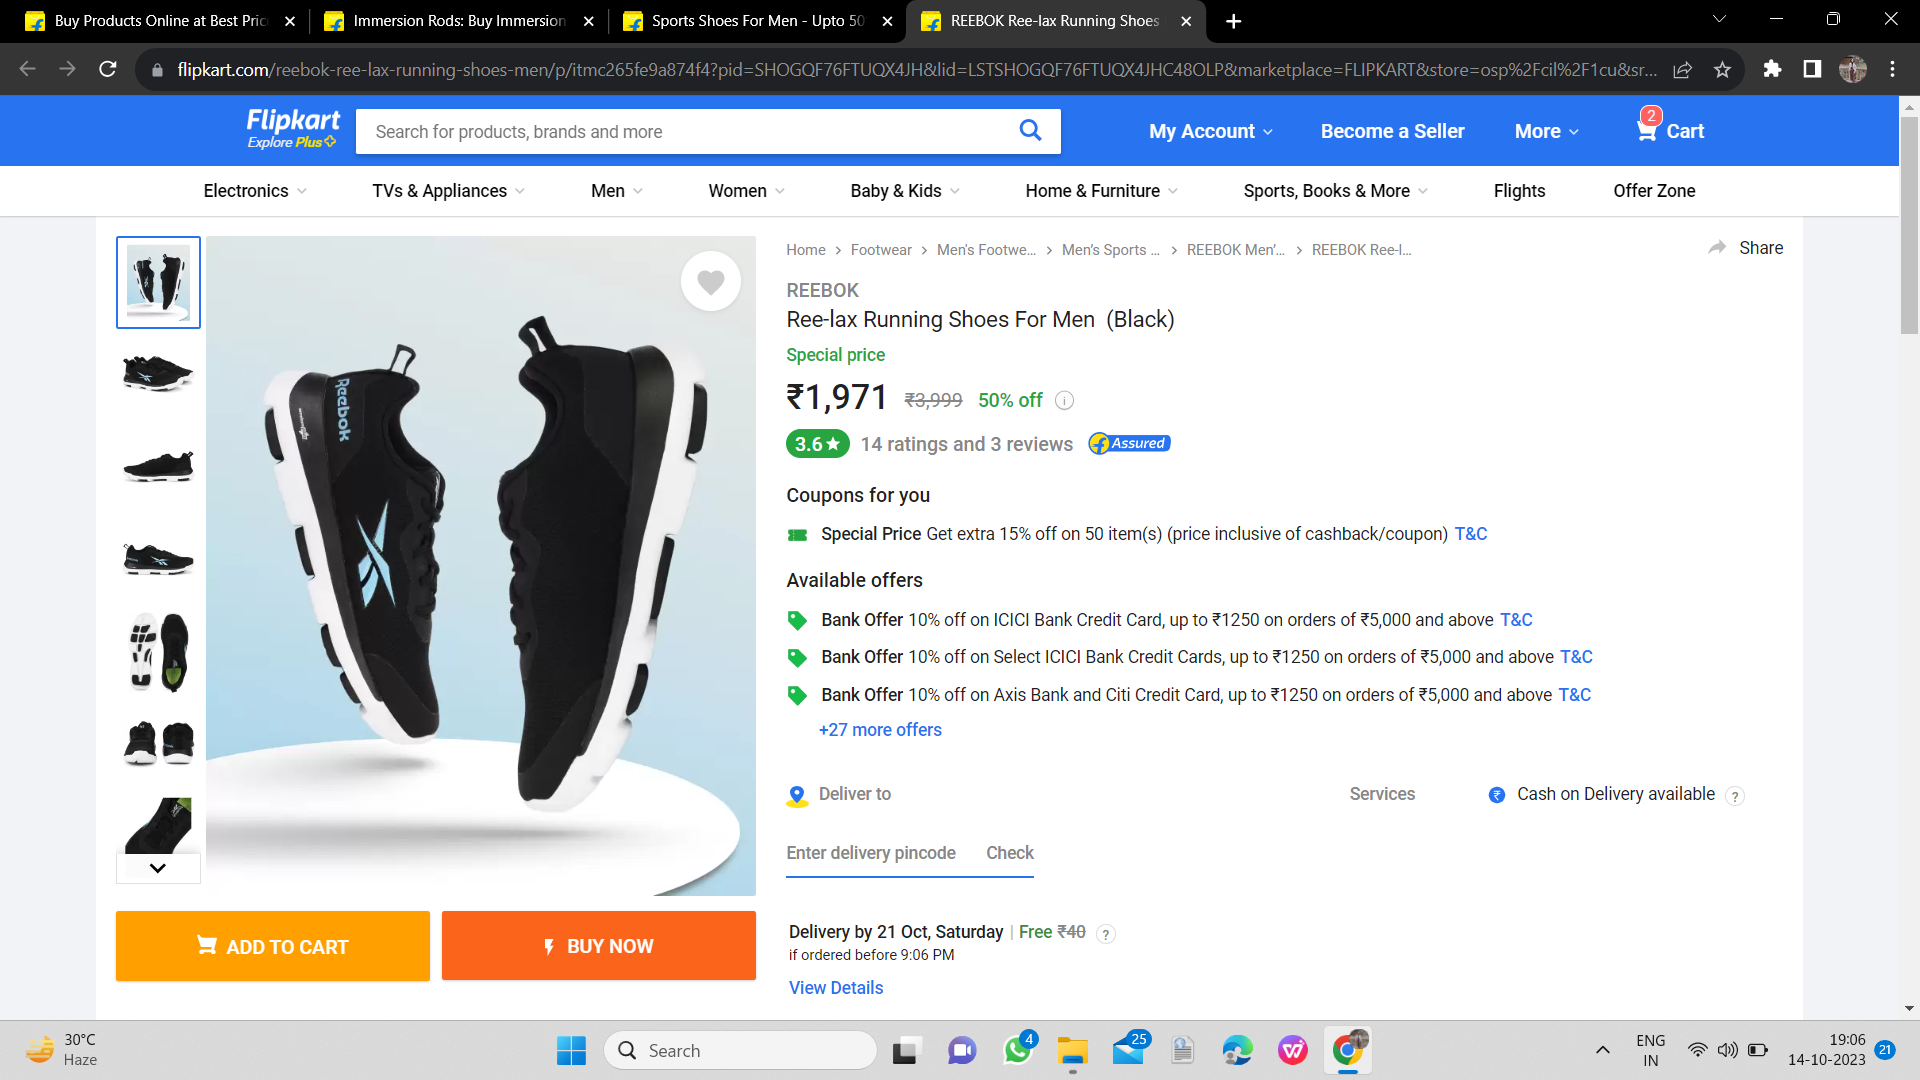Image: (216, 244, 744, 855)
Paragraph: (773, 604, 1622, 742), (102, 902, 761, 994), (774, 824, 1089, 1001), (1137, 99, 1724, 152), (774, 272, 1180, 335), (773, 518, 1499, 549), (781, 340, 1083, 410), (773, 421, 1187, 462), (1327, 779, 1721, 815), (770, 770, 923, 807), (781, 559, 927, 597), (783, 479, 932, 506)
